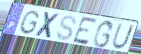E: (71, 16, 99, 47)
G: (91, 20, 115, 49), (18, 9, 41, 35)
S: (55, 15, 78, 42)
U: (110, 23, 136, 51)
X: (33, 10, 61, 41)
